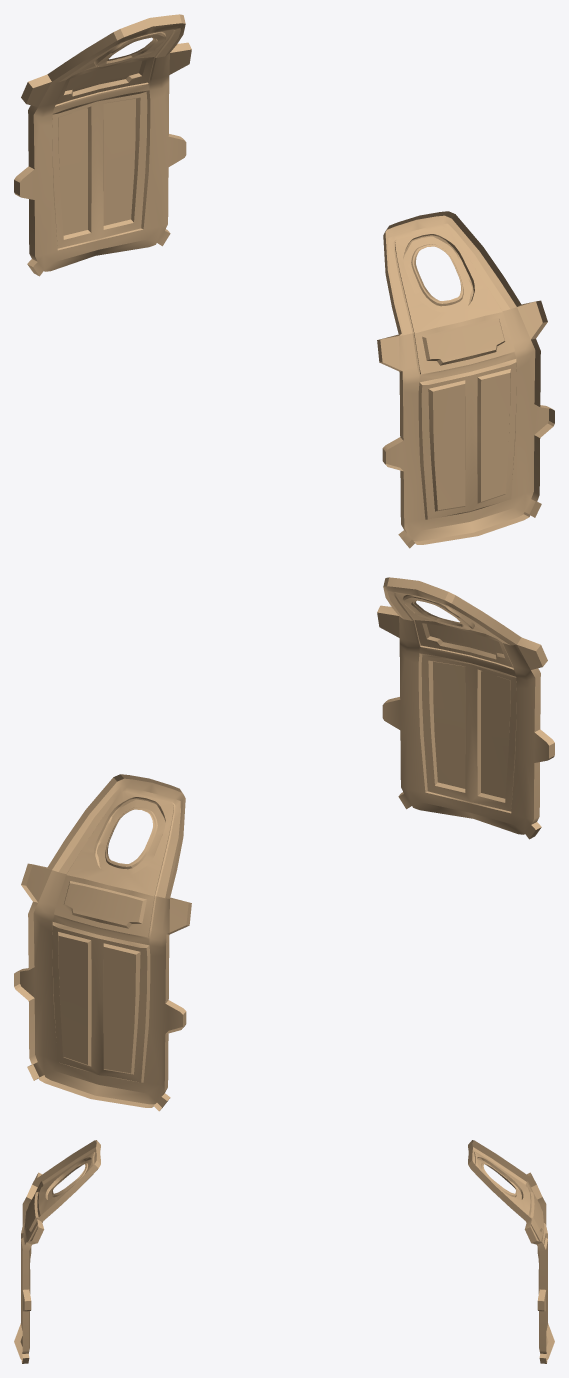
File: REENTRY_CRAFT_DOORS_INTonly_mesh.fbx
3 views of the same model, one above another, from view 1: azimuth 30°, elevation 25°; view 2: azimuth 150°, elevation 25°; view 3: azimuth 270°, elevation 25° (orthographic). The views are drawn at different scales.
Visible parts, largest first — view 1: POD_DOOR_02_INTonly_GEO, POD_DOOR_01_INTonly_GEO; view 2: POD_DOOR_01_INTonly_GEO, POD_DOOR_02_INTonly_GEO; view 3: POD_DOOR_01_INTonly_GEO, POD_DOOR_02_INTonly_GEO.
Part boxes in pixels (left/top/right/bottom): POD_DOOR_02_INTonly_GEO: left=377, top=211, right=554, bottom=548; POD_DOOR_01_INTonly_GEO: left=14, top=14, right=191, bottom=276; POD_DOOR_01_INTonly_GEO: left=14, top=774, right=191, bottom=1111; POD_DOOR_02_INTonly_GEO: left=377, top=577, right=554, bottom=839; POD_DOOR_01_INTonly_GEO: left=468, top=1140, right=554, bottom=1363; POD_DOOR_02_INTonly_GEO: left=14, top=1140, right=100, bottom=1363.
Size of the model in its own units: 0.0146 by 0.023 by 0.058.
